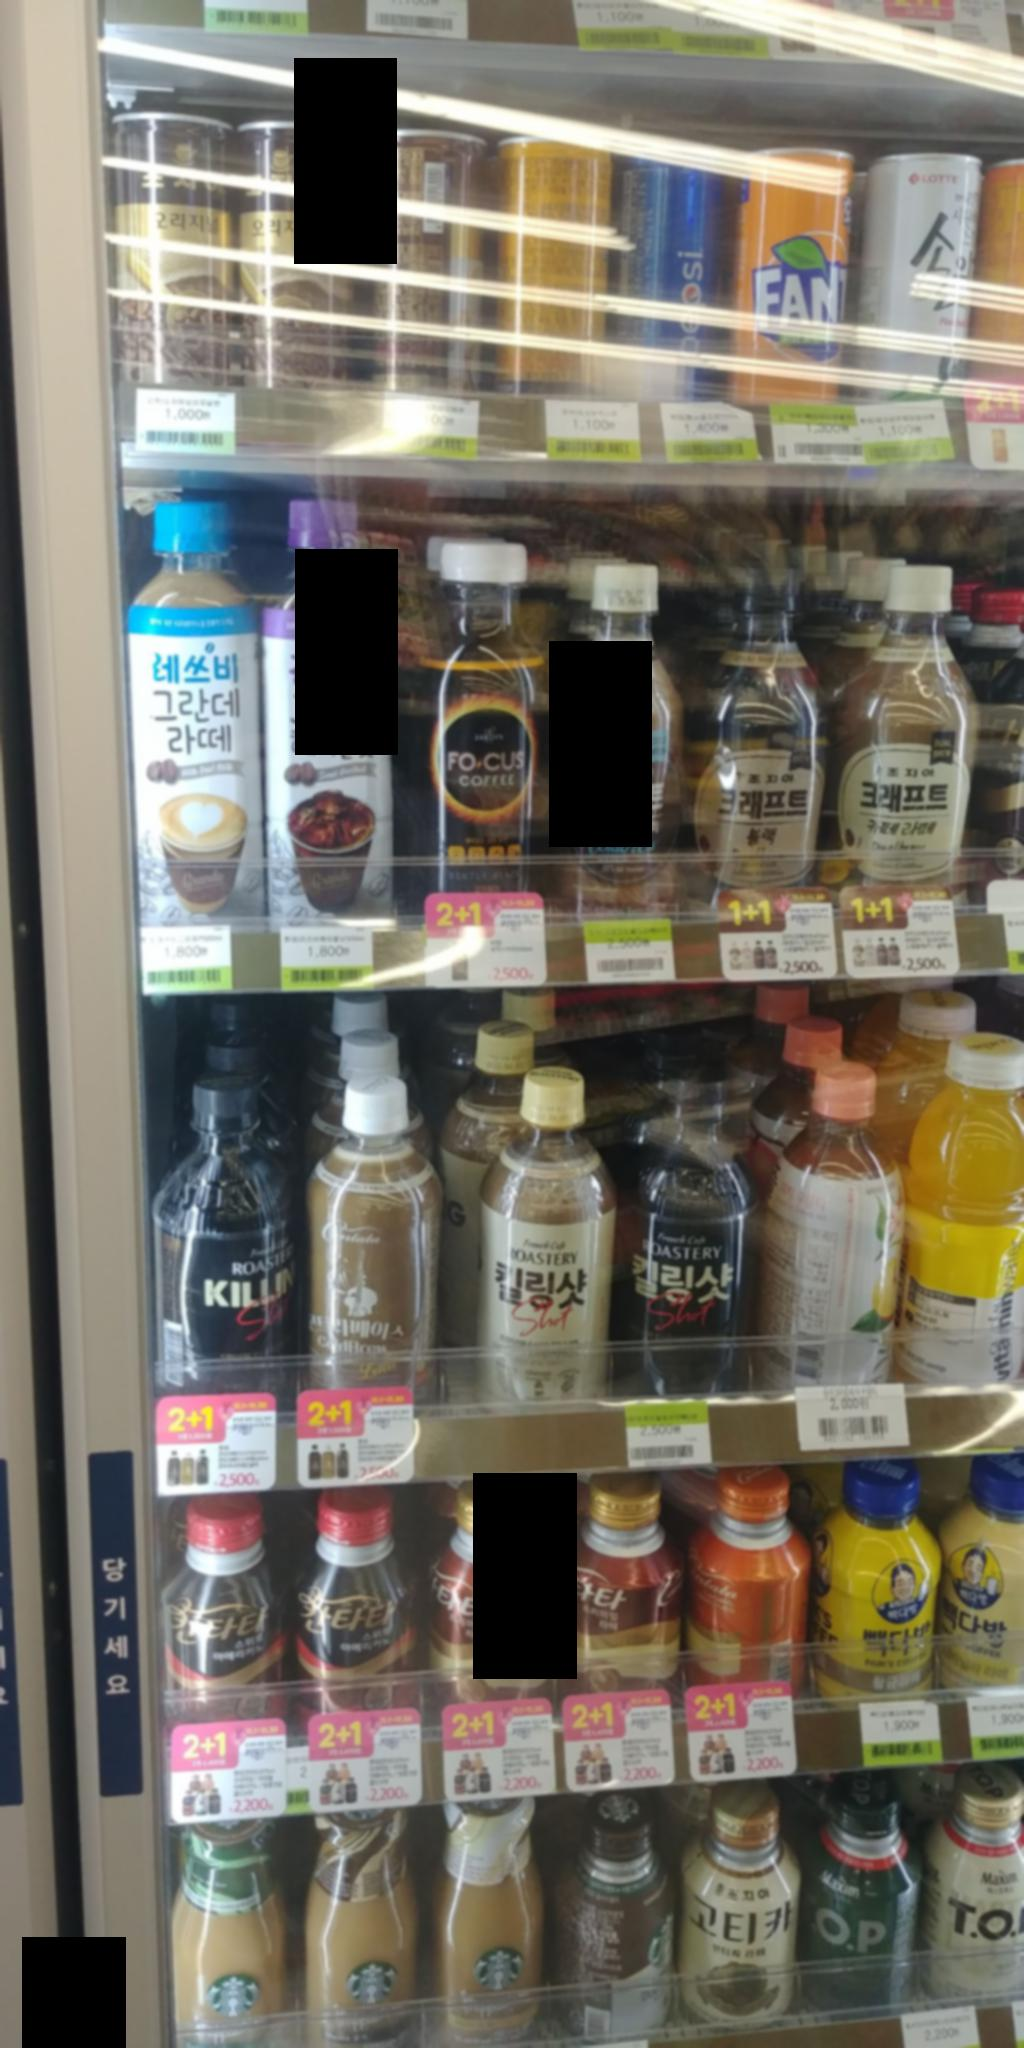TOP_black: (805, 1771, 927, 2014)
georgiacraft_black: (699, 563, 827, 886)
letsbe_grande_hazelnut: (273, 477, 404, 920)
